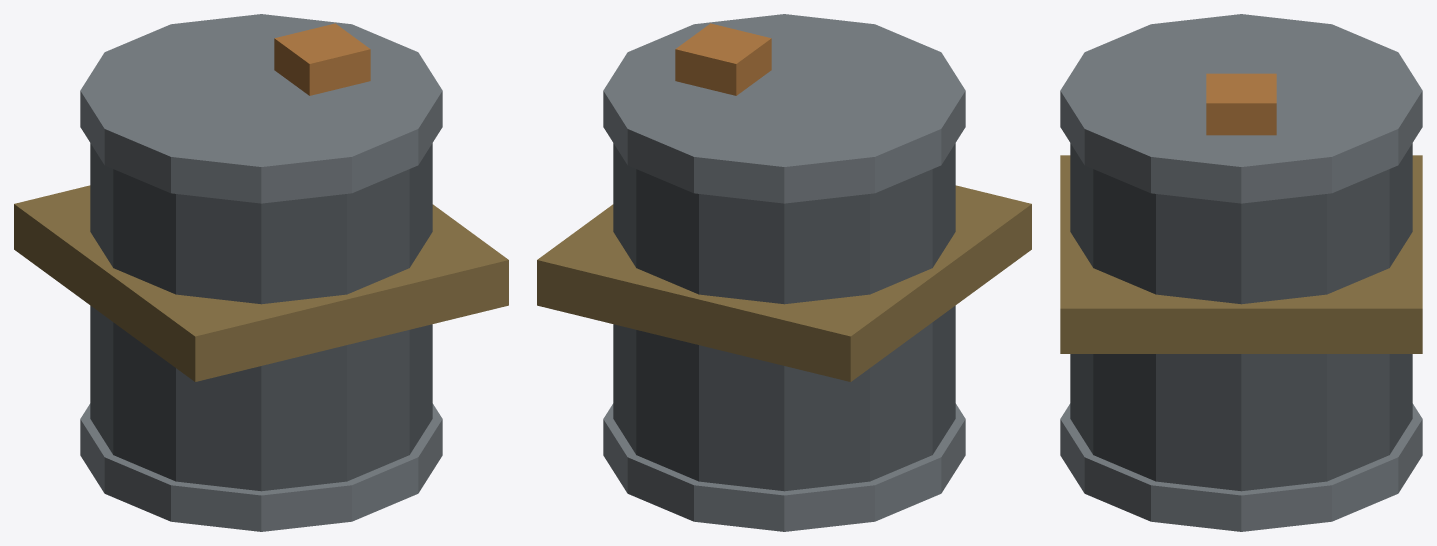
Rendered from item_good_water.glb.
3 views of the same model, side by side, from view 1: azimuth 30°, elevation 25°; view 2: azimuth 150°, elevation 25°; view 3: azimuth 270°, elevation 25° (orthographic).
Visible parts, largest first — view 1: drum, rim_t, band, rim_b, cap; view 2: drum, rim_t, band, rim_b, cap; view 3: drum, rim_t, band, rim_b, cap.
Part boxes in pixels (box(x1,y1,x2,y2)): drum: box(90, 143, 432, 491); rim_t: box(80, 14, 442, 203); band: box(14, 185, 508, 381); rim_b: box(80, 403, 442, 531); cap: box(274, 23, 370, 95); drum: box(613, 143, 955, 491); rim_t: box(603, 14, 965, 203); band: box(537, 185, 1031, 381); rim_b: box(603, 403, 965, 531); cap: box(675, 23, 771, 95); drum: box(1070, 143, 1412, 491); rim_t: box(1060, 14, 1422, 203); band: box(1060, 155, 1422, 353); rim_b: box(1060, 403, 1422, 531); cap: box(1206, 73, 1276, 135).
Size of the model in its own units: 0.72 by 0.87 by 0.72.
